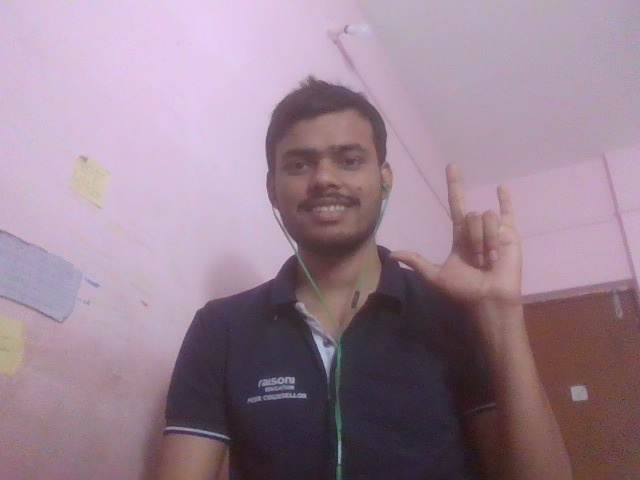ILoveYou: (364, 140, 562, 343)
